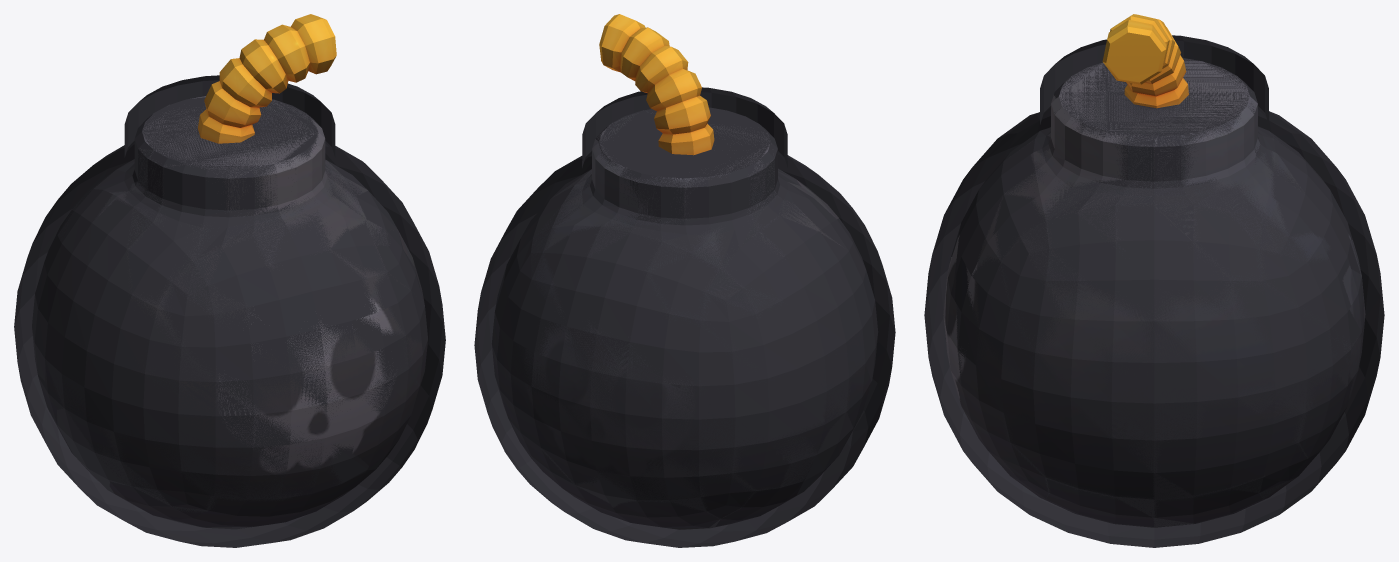
File: Bomb.fbx
The picture shows the model from 3 angles, left to right: view 1: azimuth 30°, elevation 25°; view 2: azimuth 150°, elevation 25°; view 3: azimuth 270°, elevation 25°; orthographic projection. The views are drawn at different scales.
Visible parts, largest first — view 1: Bomb; view 2: Bomb; view 3: Bomb.
Part boxes in pixels (x1=…): Bomb: x1=14, y1=14, x2=445, y2=547; Bomb: x1=474, y1=14, x2=895, y2=547; Bomb: x1=924, y1=14, x2=1384, y2=547.
Bounding box in the file's own units: 41.02 × 53.03 × 41.02.
